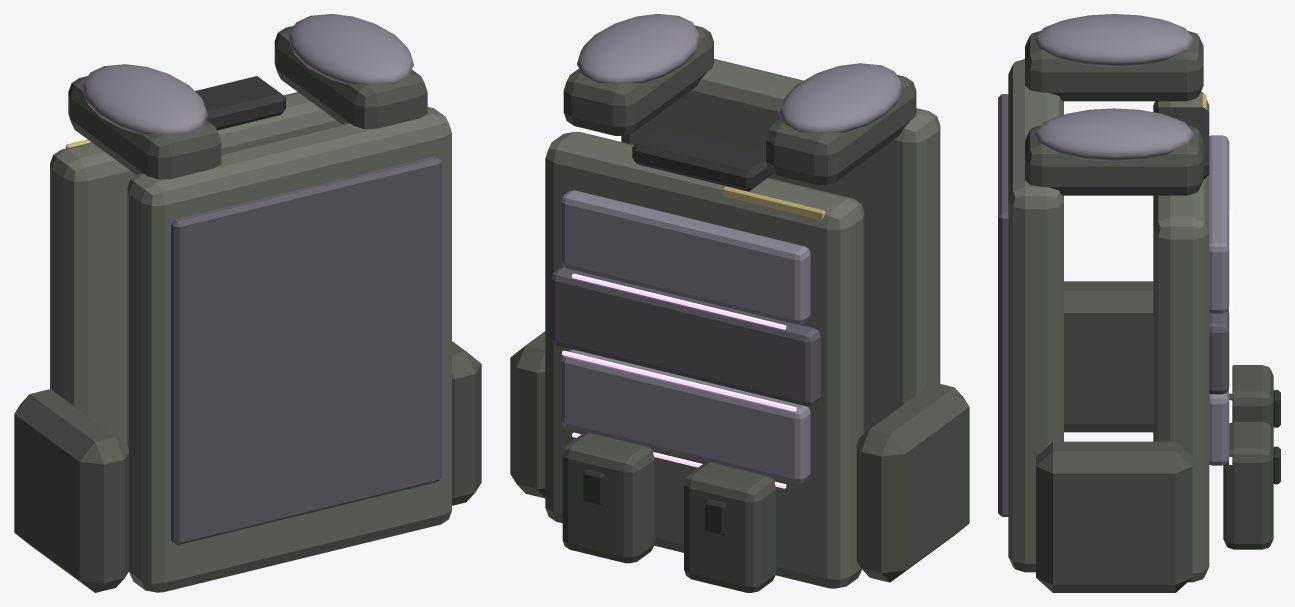
Rendered from pancir.glb.
3 renders of one model, left to right at view 1: azimuth 30°, elevation 25°; view 2: azimuth 150°, elevation 25°; view 3: azimuth 270°, elevation 25°, orthographic. The views are drawn at different scales.
Parts seen in each view (by area): view 1: Pancir; view 2: Pancir; view 3: Pancir.
Part boxes in pixels (x1,y1,x2,y2): Pancir: (14, 14, 481, 592); Pancir: (510, 14, 969, 592); Pancir: (998, 14, 1280, 592).
Bounding box in the file's own units: 0.39 × 0.4408 × 0.253.
